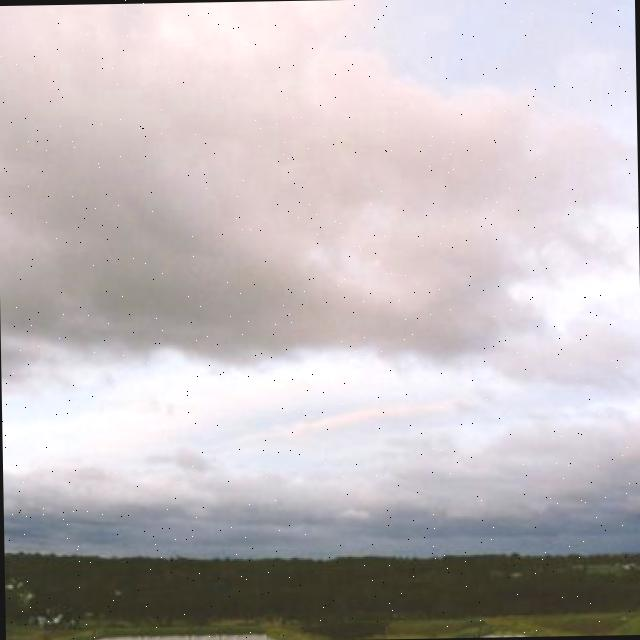St: (1, 1, 640, 407)
